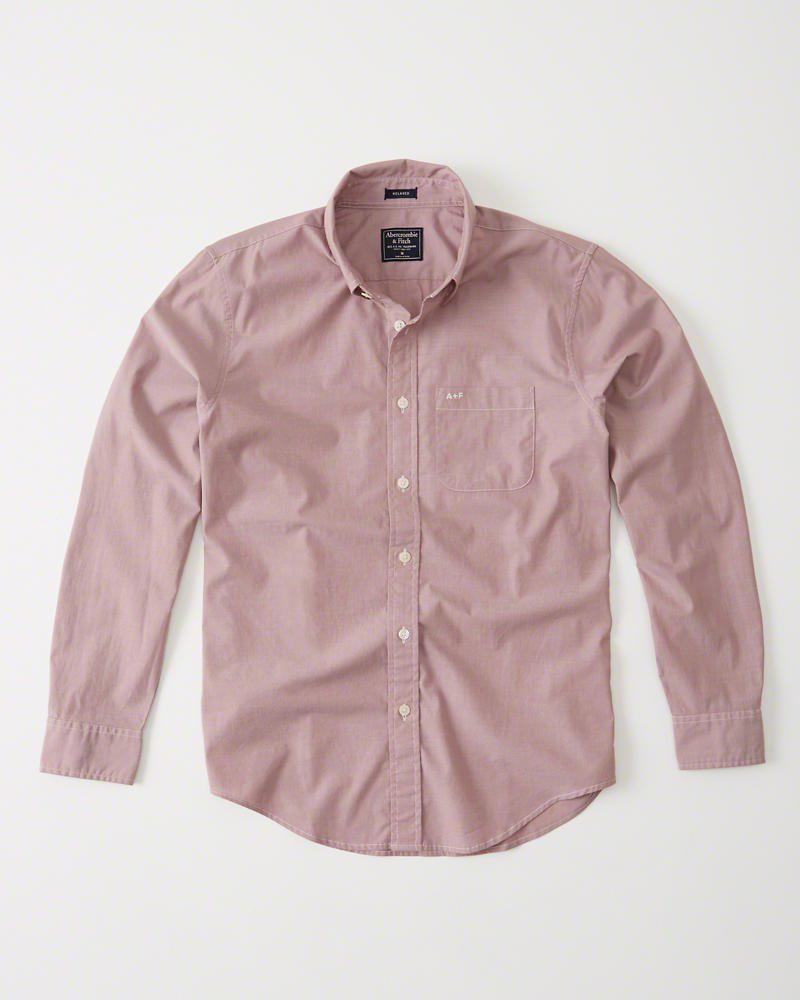teeshirt: (33, 154, 779, 856)
